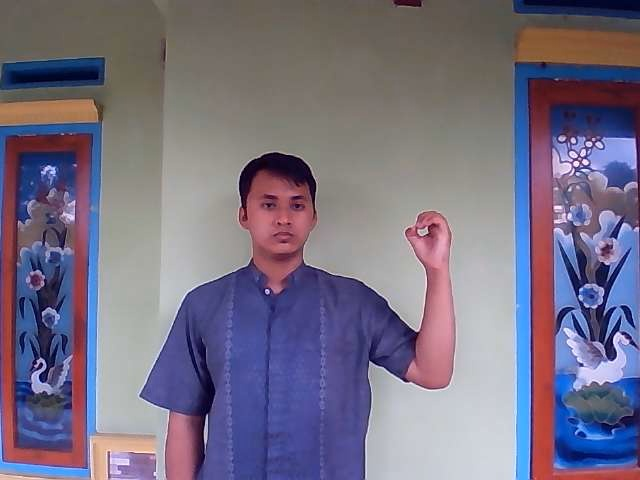O: (402, 209, 453, 264)
